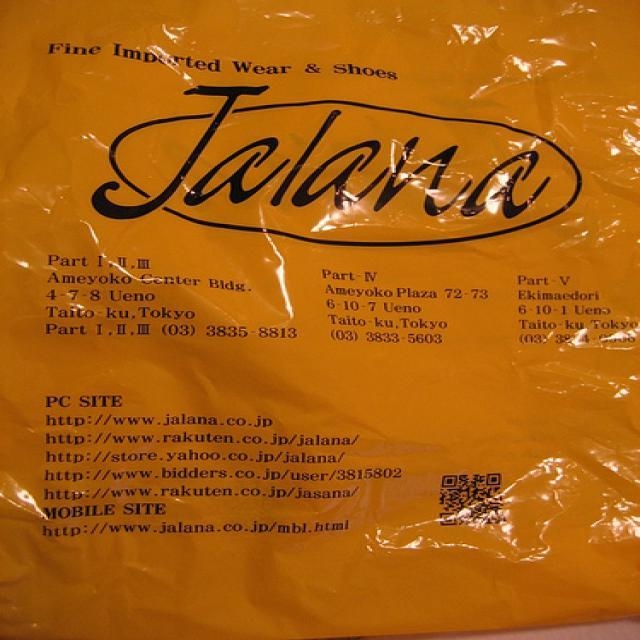qrcode: (442, 475, 500, 526)
